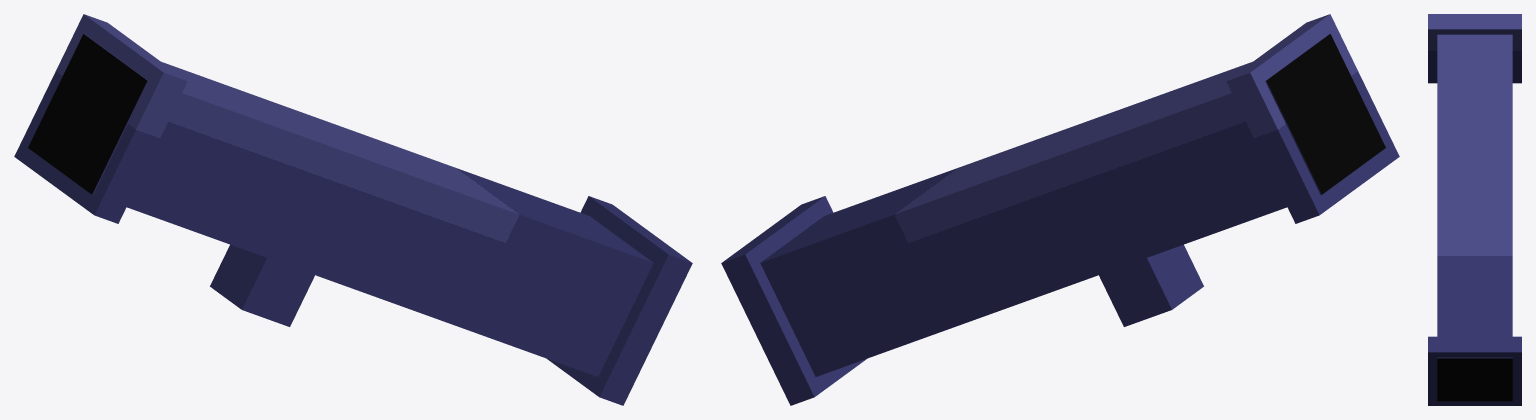
The model's file is Grenade Launcher.glb.
3 renders of one model, left to right at view 1: azimuth 30°, elevation 25°; view 2: azimuth 150°, elevation 25°; view 3: azimuth 270°, elevation 25°, orthographic. The views are drawn at different scales.
Visible parts, largest first — view 1: cube (×4); view 2: cube (×4); view 3: cube (×3).
Boxes of the visible parts, bbox=[...] form: cube (×4): bbox=[14, 14, 692, 405]; cube (×4): bbox=[721, 14, 1399, 405]; cube (×3): bbox=[1428, 14, 1521, 405].
Bounding box in the file's own units: 21.55 × 15.33 × 5.
1 material, 1 textured.
